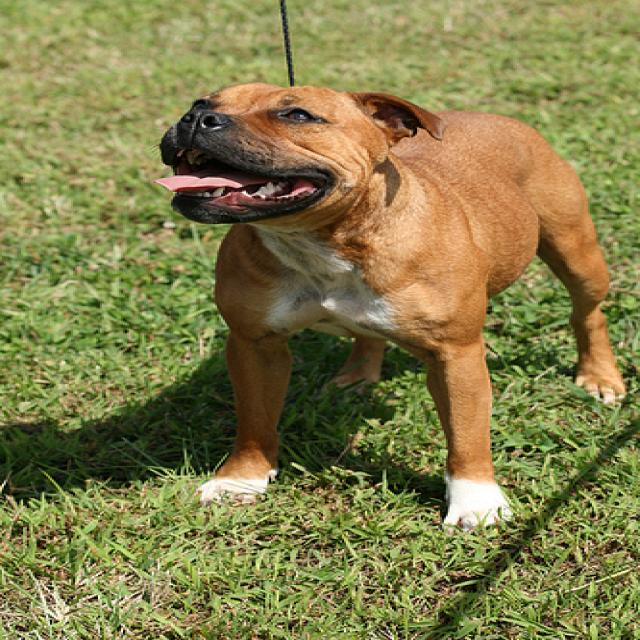dog: (152, 80, 446, 222)
